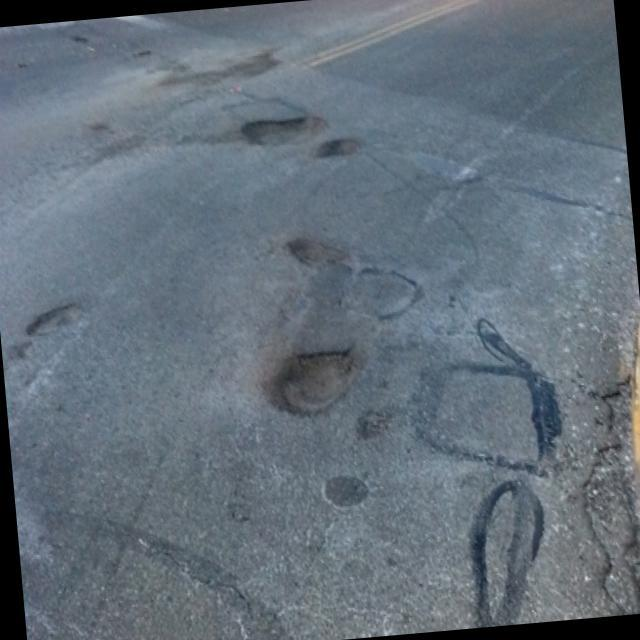Pothole: (12, 279, 128, 362), (254, 319, 370, 395), (274, 212, 364, 278), (236, 108, 334, 146), (306, 122, 372, 154), (88, 101, 124, 153), (126, 13, 170, 52), (61, 26, 108, 56)
